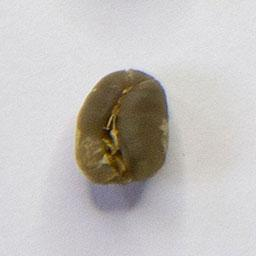peaberry: (68, 65, 176, 191)
